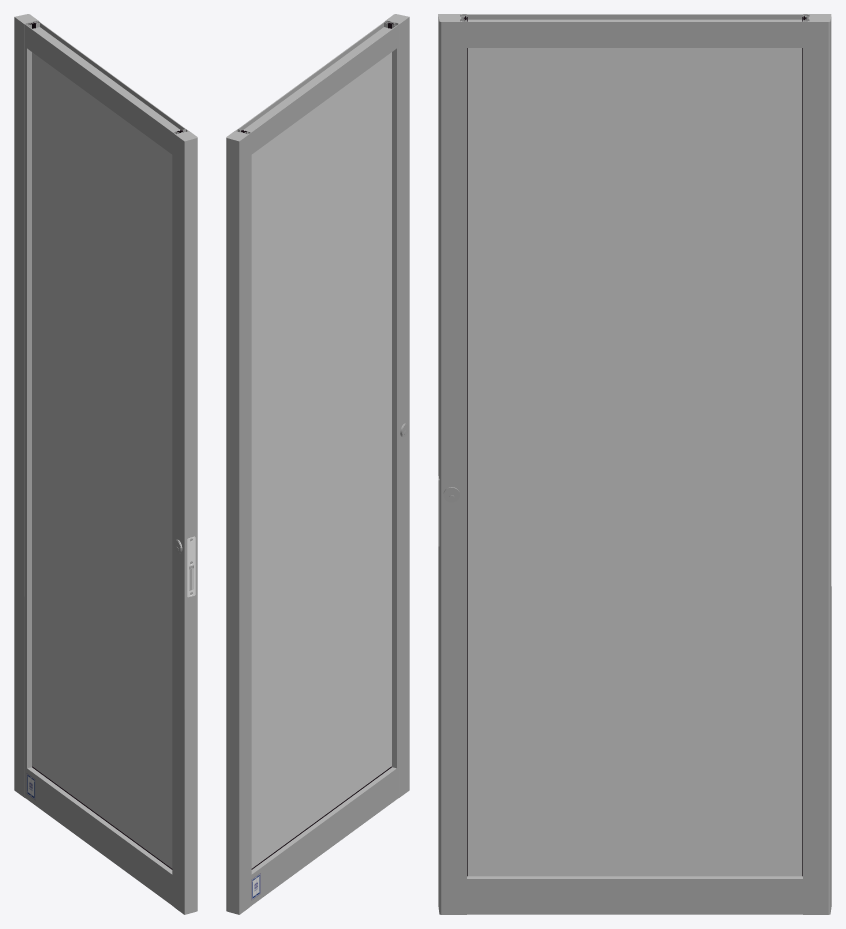
Rendered from D200_Slab_AL.glb.
The picture shows the model from 3 angles, left to right: view 1: azimuth 30°, elevation 25°; view 2: azimuth 150°, elevation 25°; view 3: azimuth 270°, elevation 25°; orthographic projection. The views are drawn at different scales.
Visible parts, largest first — view 1: Cube.001, PROFILE_curve_.020, D200, PROFILE_curve_.012, PROFILE_curve_.015, Cube.009; view 2: Cube.001, D200, PROFILE_curve_.020, PROFILE_curve_.012, PROFILE_curve_.015; view 3: Cube.001, D200, PROFILE_curve_.020, PROFILE_curve_.015, PROFILE_curve_.012, rubber_curve_.015, rubber_curve_.013.
Boxes of the visible parts, x1,y1,x2,y2 form: Cube.001: (32, 52, 172, 868); PROFILE_curve_.020: (172, 129, 197, 914); D200: (14, 14, 40, 798); PROFILE_curve_.012: (27, 22, 185, 154); PROFILE_curve_.015: (27, 767, 172, 905); Cube.009: (187, 536, 195, 597); Cube.001: (251, 52, 391, 868); D200: (226, 129, 251, 914); PROFILE_curve_.020: (383, 14, 409, 798); PROFILE_curve_.012: (238, 22, 396, 154); PROFILE_curve_.015: (251, 767, 396, 905); Cube.001: (467, 48, 802, 876); D200: (803, 14, 831, 914); PROFILE_curve_.020: (438, 14, 466, 914); PROFILE_curve_.015: (467, 876, 802, 914); PROFILE_curve_.012: (467, 14, 802, 47); rubber_curve_.015: (802, 18, 806, 876); rubber_curve_.013: (464, 18, 467, 876).
Bounding box in the file's own units: 0.054 × 2.29 × 0.9144.
7 materials, 1 textured.
